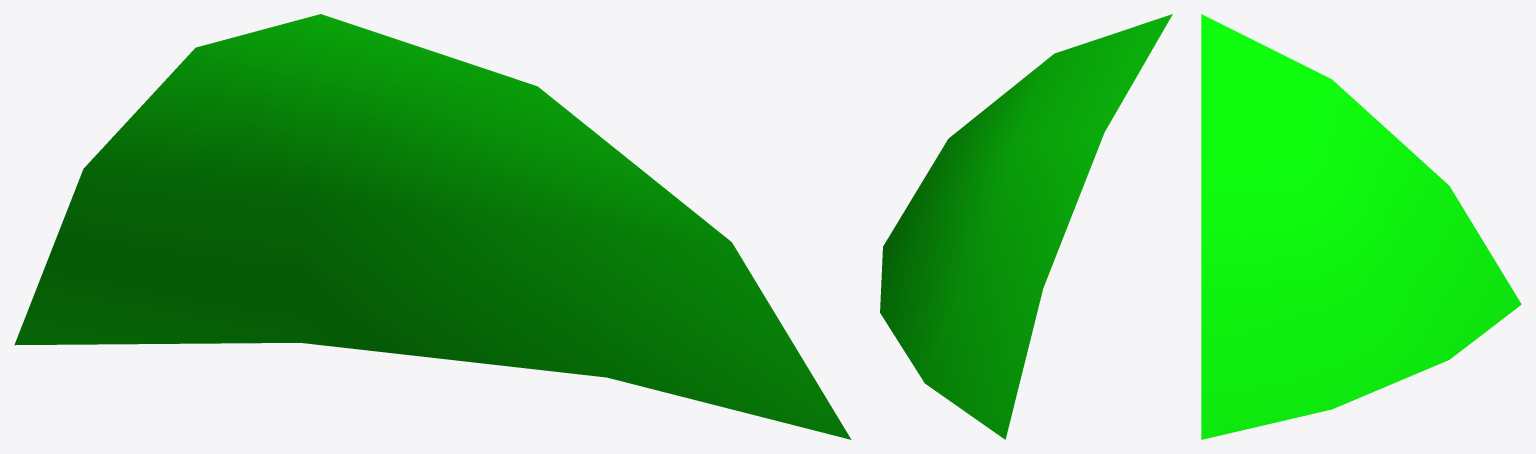
The picture shows the model from 3 angles, left to right: view 1: azimuth 30°, elevation 25°; view 2: azimuth 150°, elevation 25°; view 3: azimuth 270°, elevation 25°; orthographic projection. The views are drawn at different scales.
Visible parts, largest first — view 1: None_E_E_E_E_E_G_E_E_None; view 2: None_E_E_E_E_E_G_E_E_None; view 3: None_E_E_E_E_E_G_E_E_None.
Part boxes in pixels (bbox=[...]): None_E_E_E_E_E_G_E_E_None: bbox=[14, 14, 851, 439]; None_E_E_E_E_E_G_E_E_None: bbox=[880, 14, 1172, 439]; None_E_E_E_E_E_G_E_E_None: bbox=[1201, 14, 1521, 439].
Size of the model in its own units: 50 by 50 by 50.
